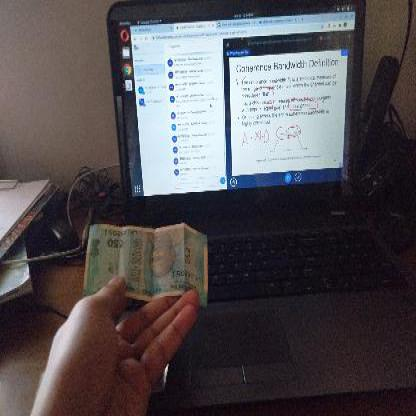New50Front: (86, 221, 209, 304)
